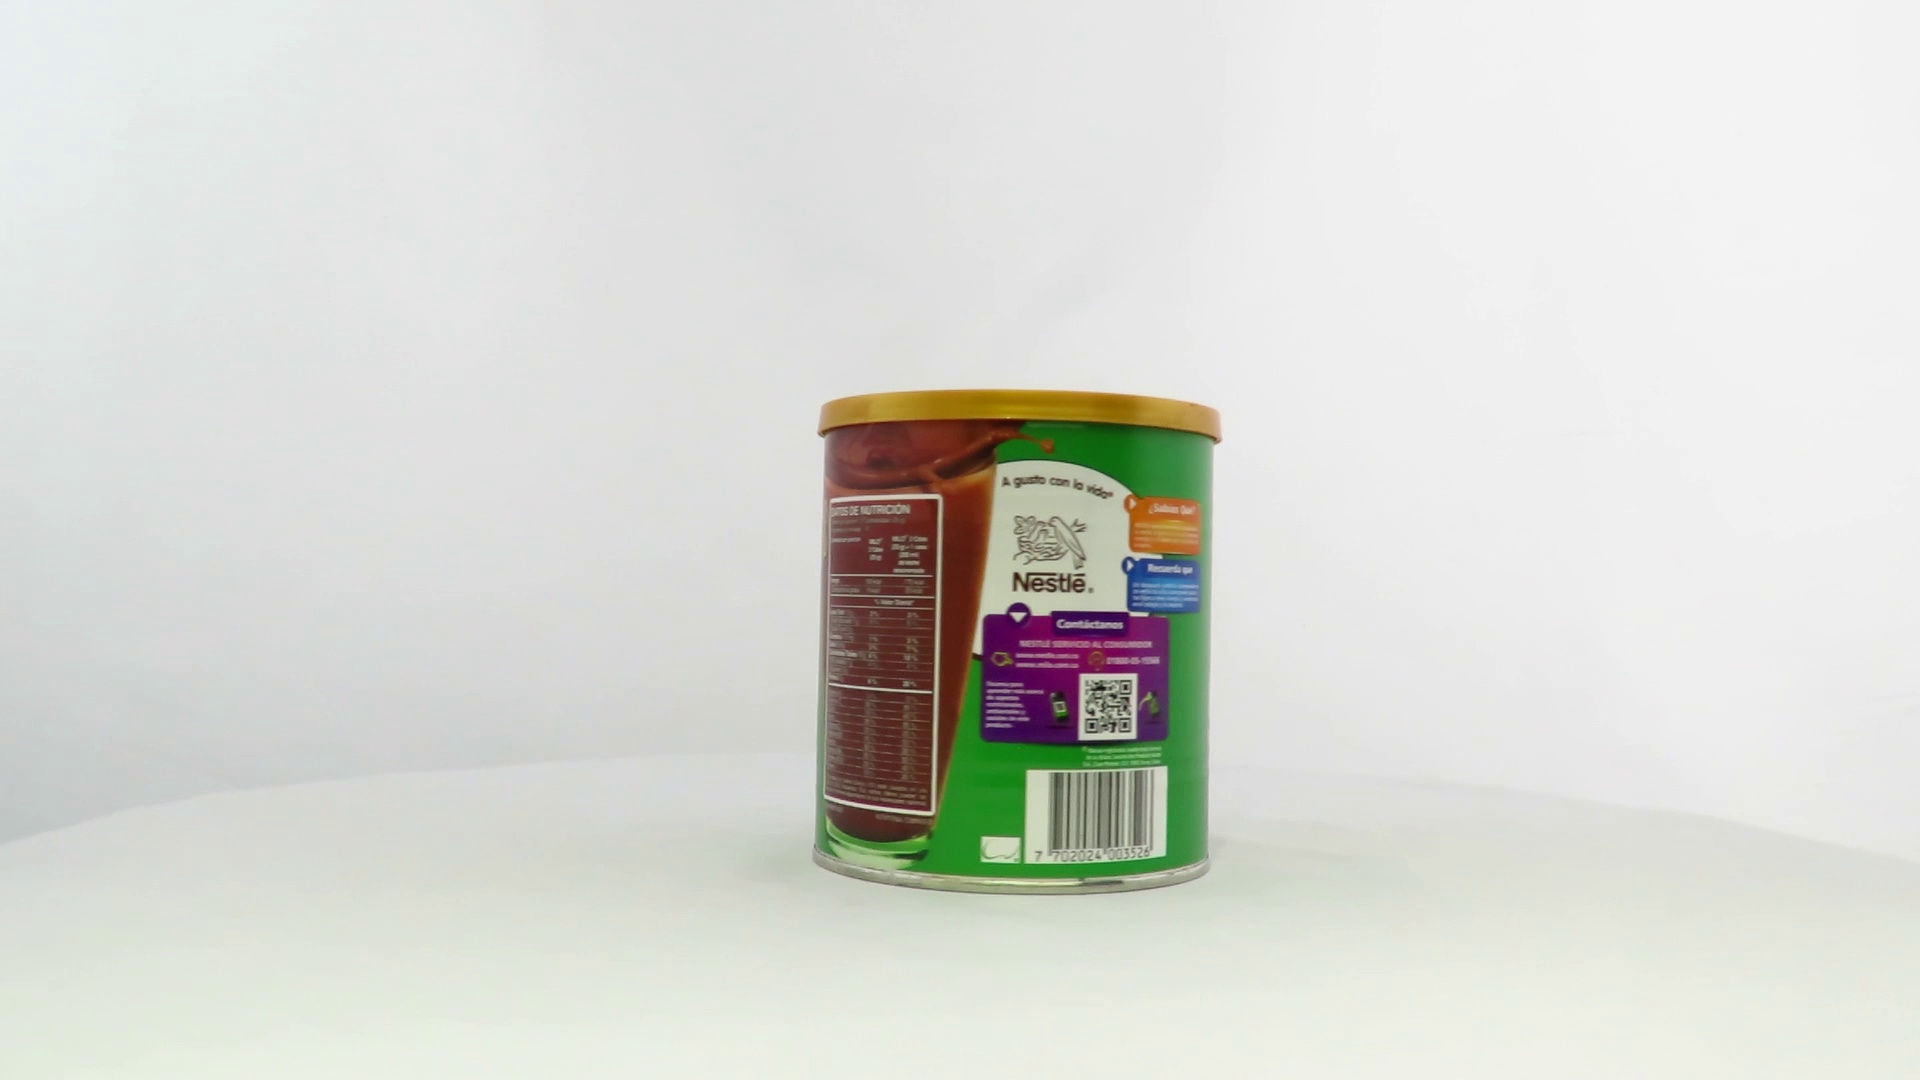COL0170203LAT40000: (807, 384, 1228, 902)
